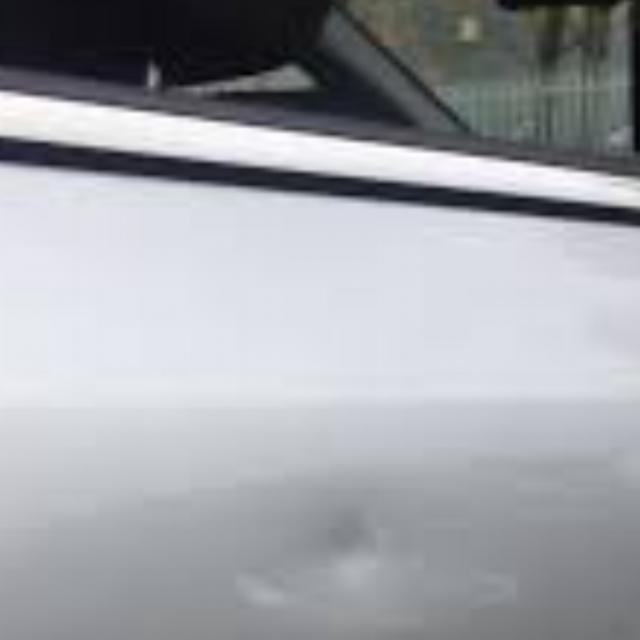dents: (330, 486, 431, 603), (224, 558, 314, 618)
